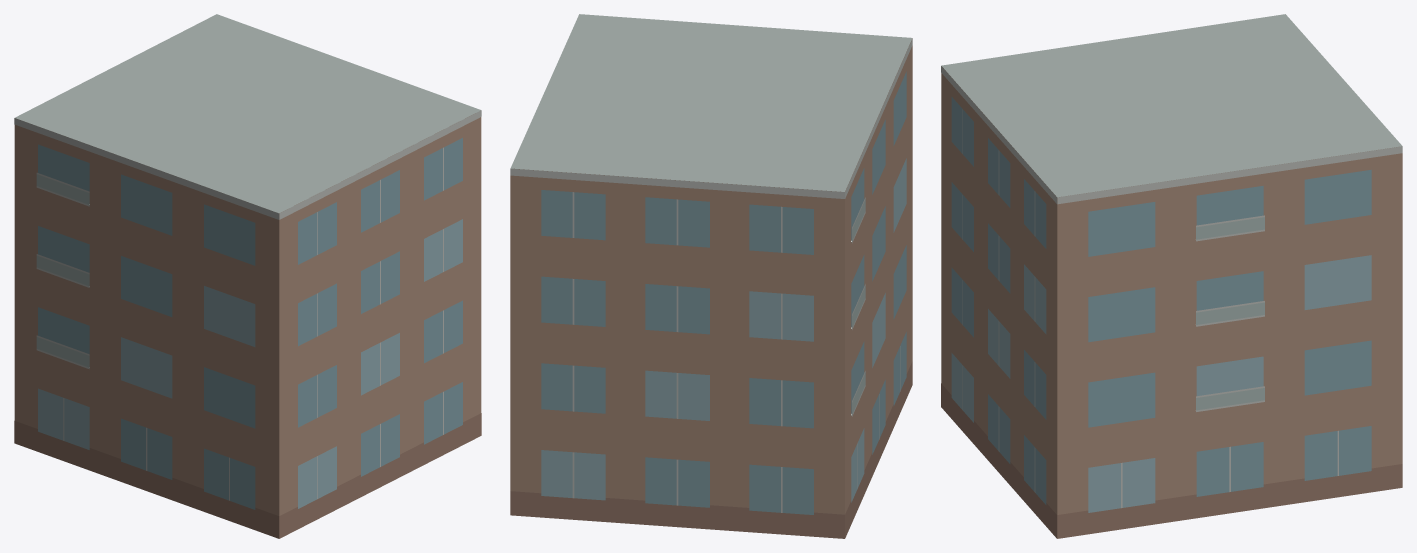
Rendered from survey-upis-32952284.glb.
The picture shows the model from 3 angles, left to right: view 1: azimuth 30°, elevation 25°; view 2: azimuth 150°, elevation 25°; view 3: azimuth 270°, elevation 25°; orthographic projection. The views are drawn at different scales.
Parts seen in each view (by area): view 1: survey-upis-32952284.tmp; view 2: survey-upis-32952284.tmp; view 3: survey-upis-32952284.tmp.
Part boxes in pixels (left/top/right/bottom): survey-upis-32952284.tmp: left=14, top=14, right=481, bottom=538; survey-upis-32952284.tmp: left=510, top=14, right=912, bottom=538; survey-upis-32952284.tmp: left=941, top=14, right=1402, bottom=538.
Size of the model in its own units: 13.77 by 11.95 by 14.65.
